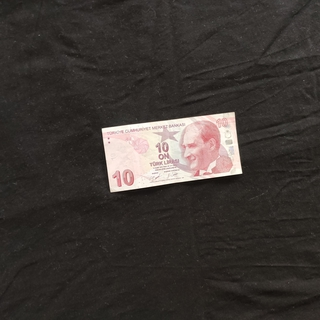10TLFront: (100, 110, 244, 193)
